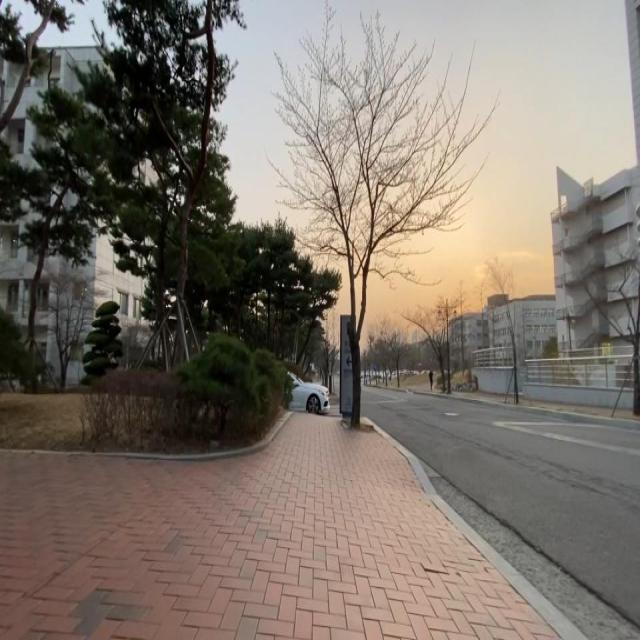sidewalk: (0, 412, 592, 640), (518, 399, 633, 417), (451, 391, 514, 404), (412, 386, 443, 393)
